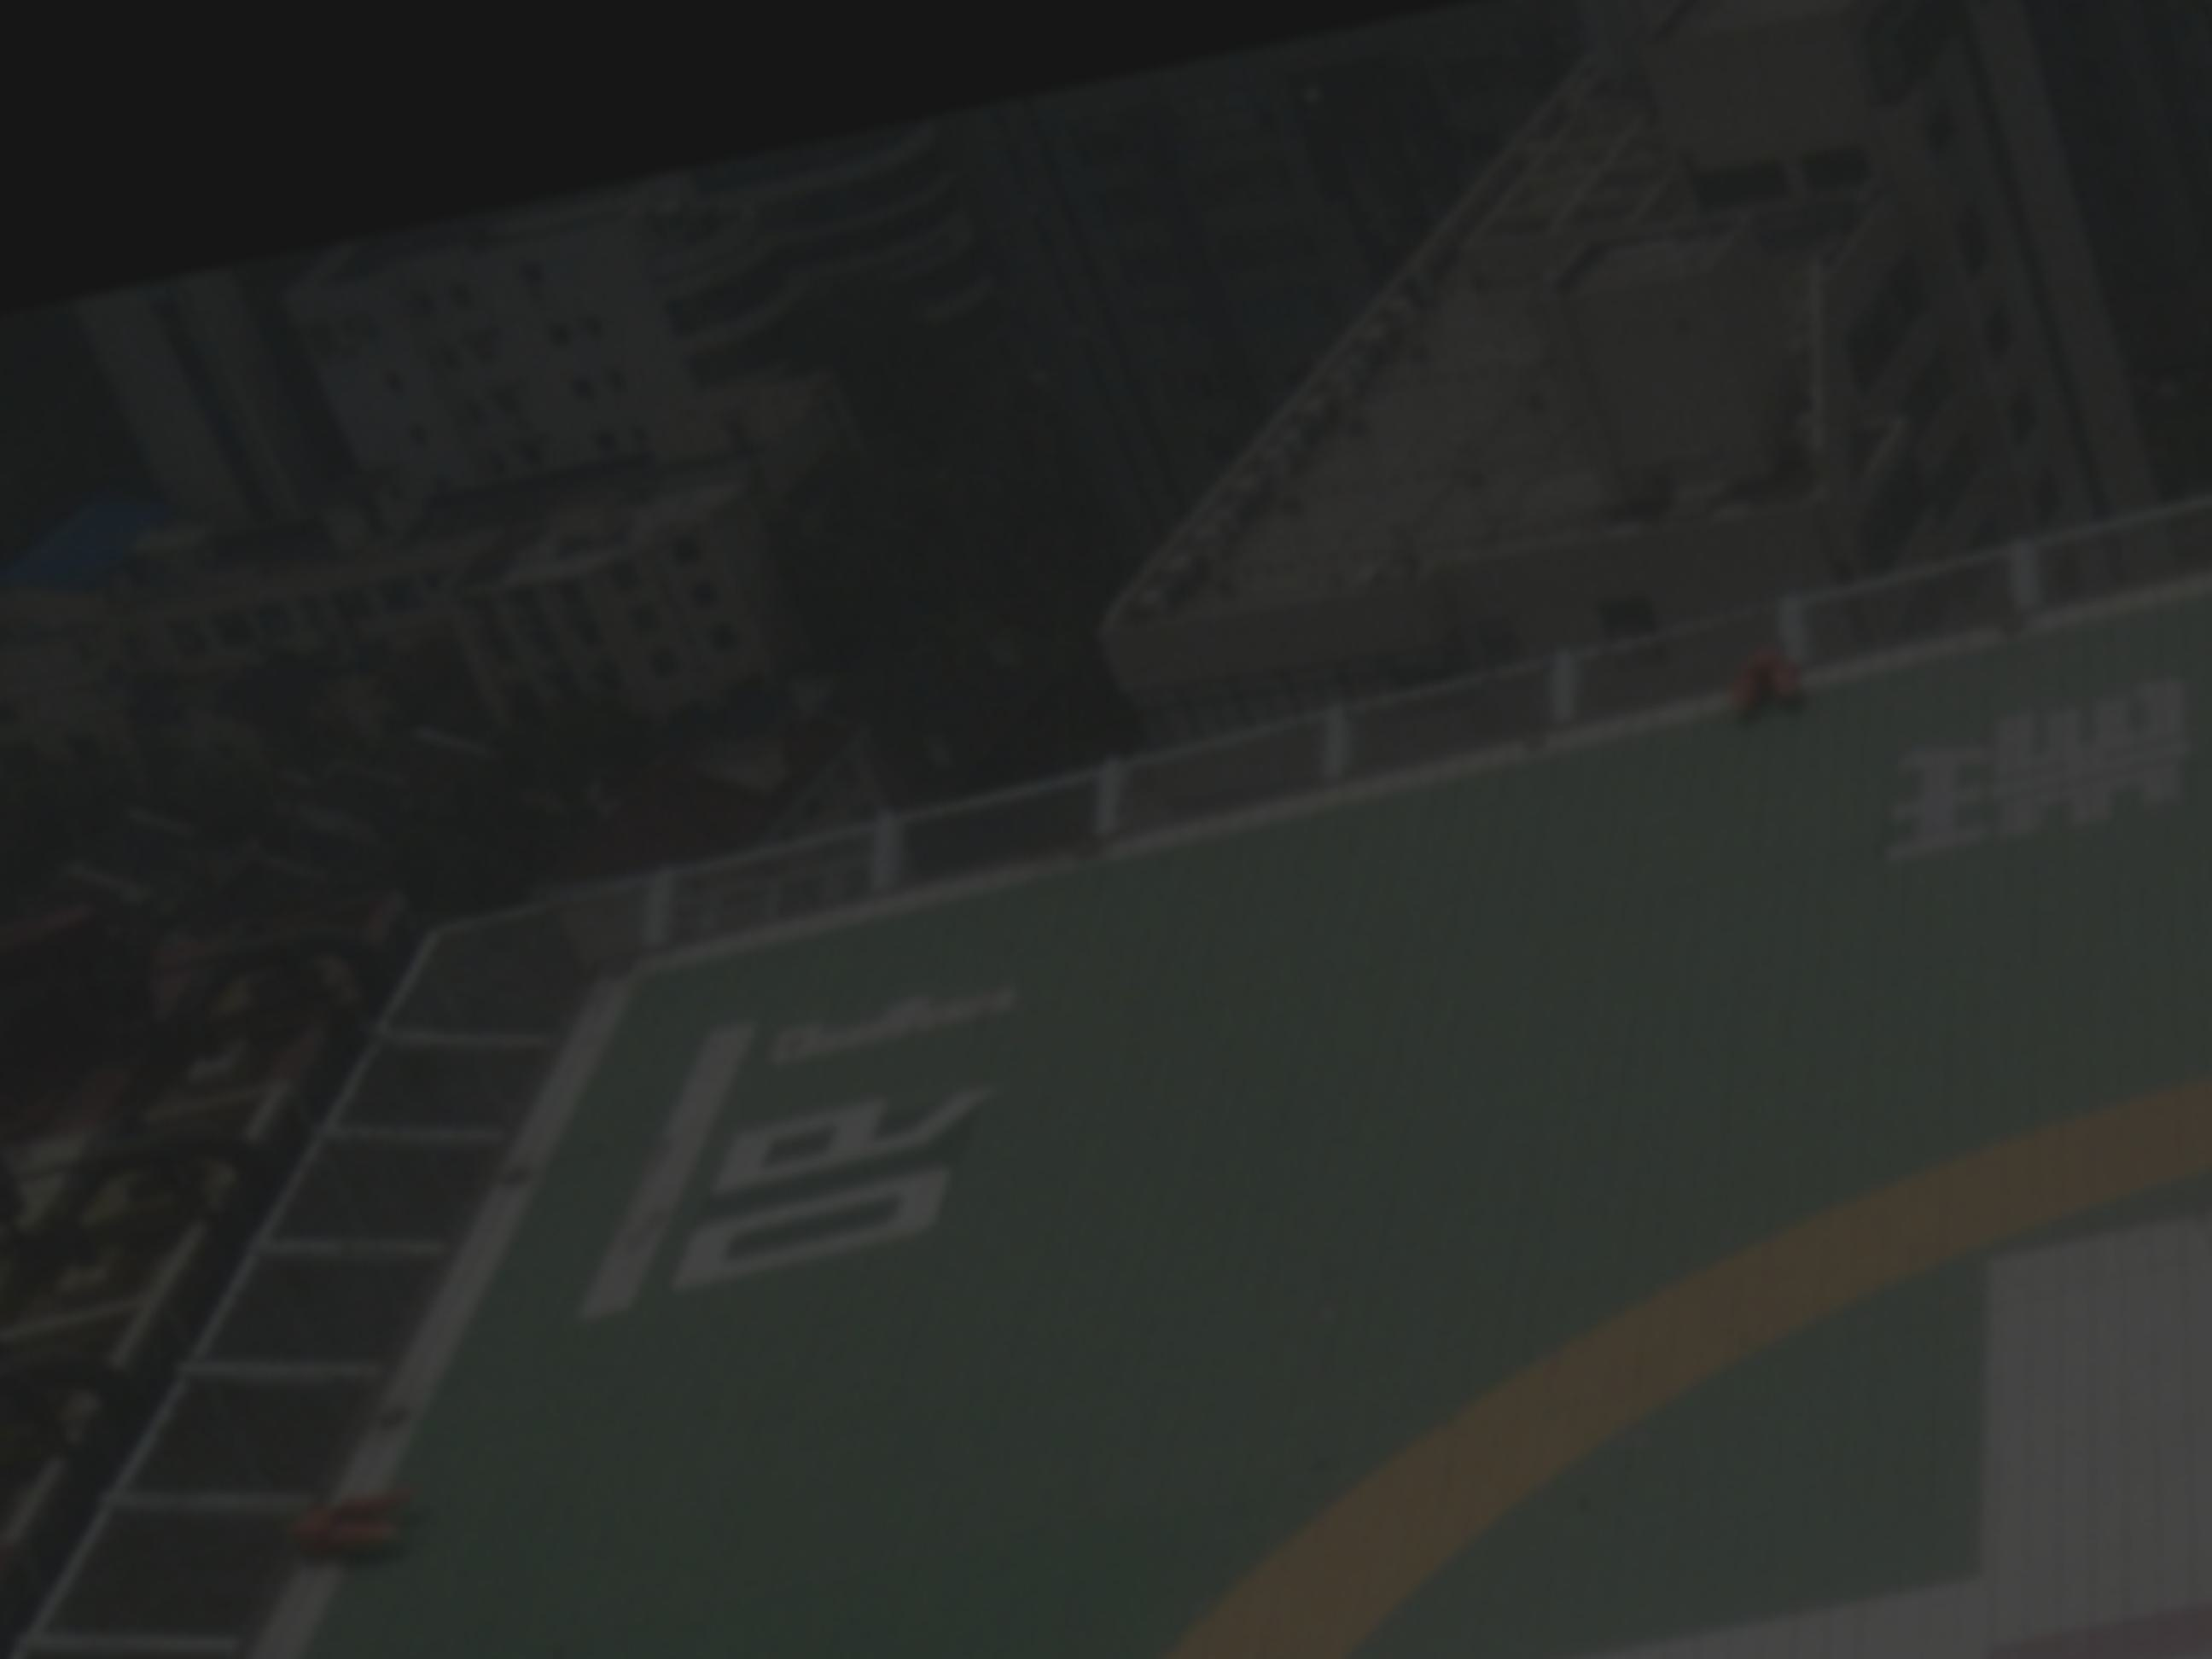Apron: (1245, 1046, 2212, 1659)
